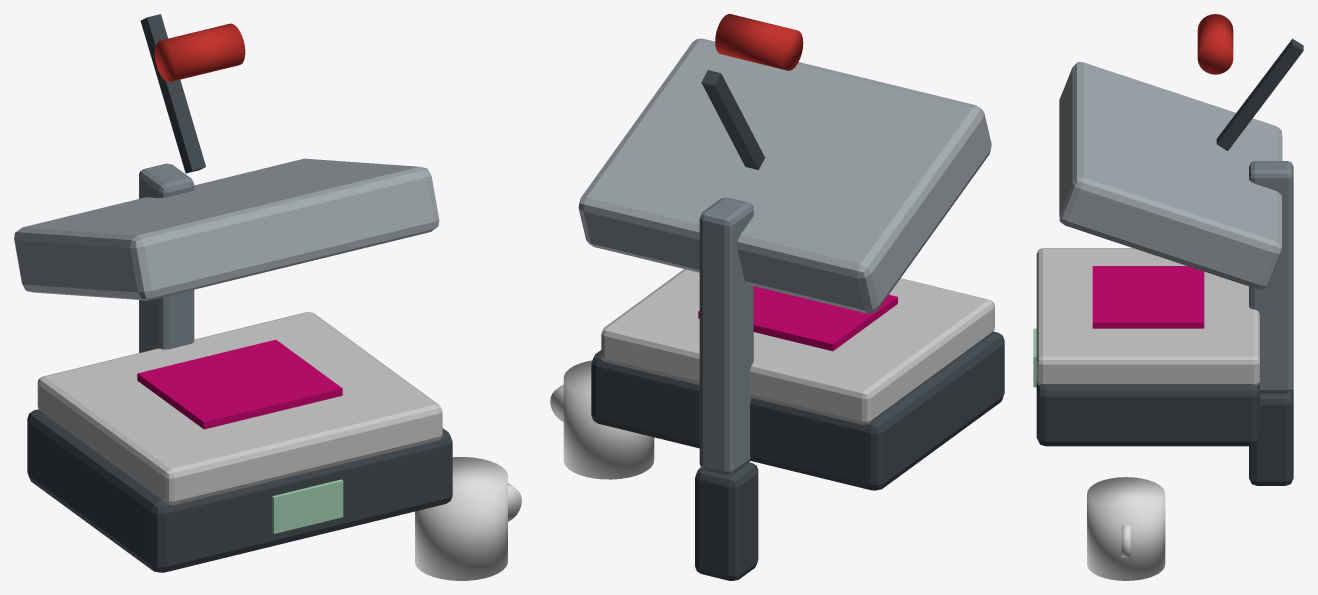
Rendered from m_heatpress.glb.
3 renders of one model, left to right at view 1: azimuth 30°, elevation 25°; view 2: azimuth 150°, elevation 25°; view 3: azimuth 270°, elevation 25°, orthographic. The views are drawn at different scales.
Parts seen in each view (by area): view 1: m_heatpress; view 2: m_heatpress; view 3: m_heatpress.
Part boxes in pixels (x1,y1,x2,y2): m_heatpress: (14,14,521,580); m_heatpress: (550,14,1004,580); m_heatpress: (1033,14,1303,580).
Size of the model in its own units: 0.36 by 0.446 by 0.2418.
